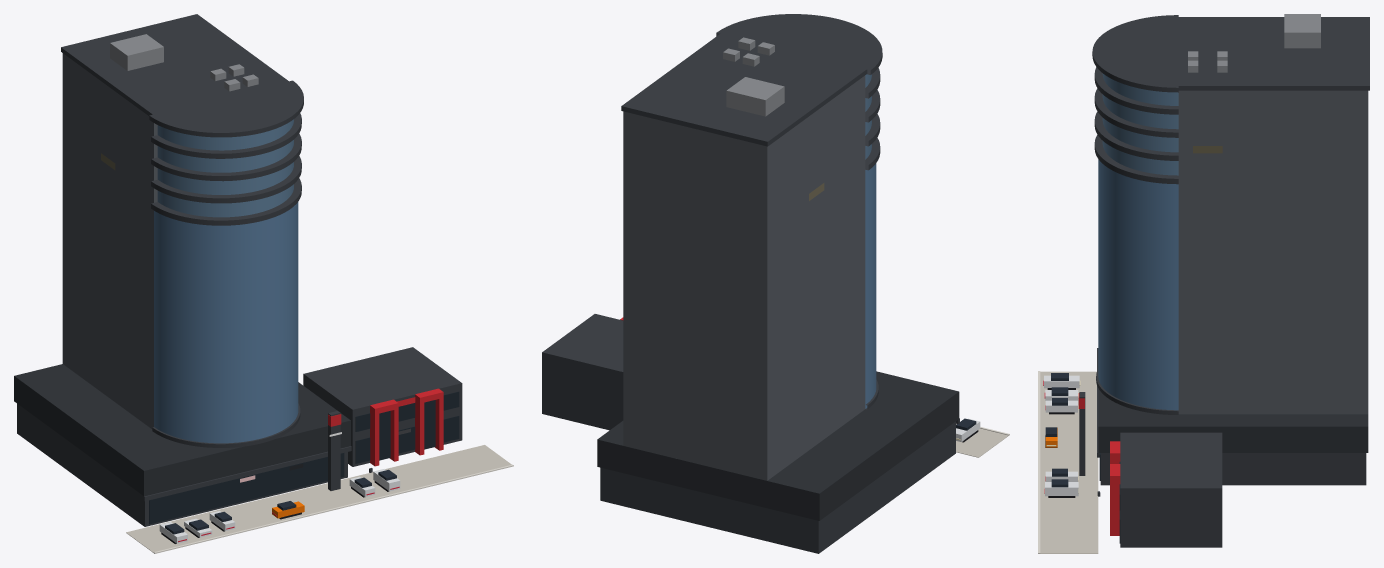
File: koumassi-tour-ivoire.glb
3 renders of one model, left to right at view 1: azimuth 30°, elevation 25°; view 2: azimuth 150°, elevation 25°; view 3: azimuth 270°, elevation 25°, orthographic. The views are drawn at different scales.
Size of the model in its own units: 59 by 61.1 by 45.45.
